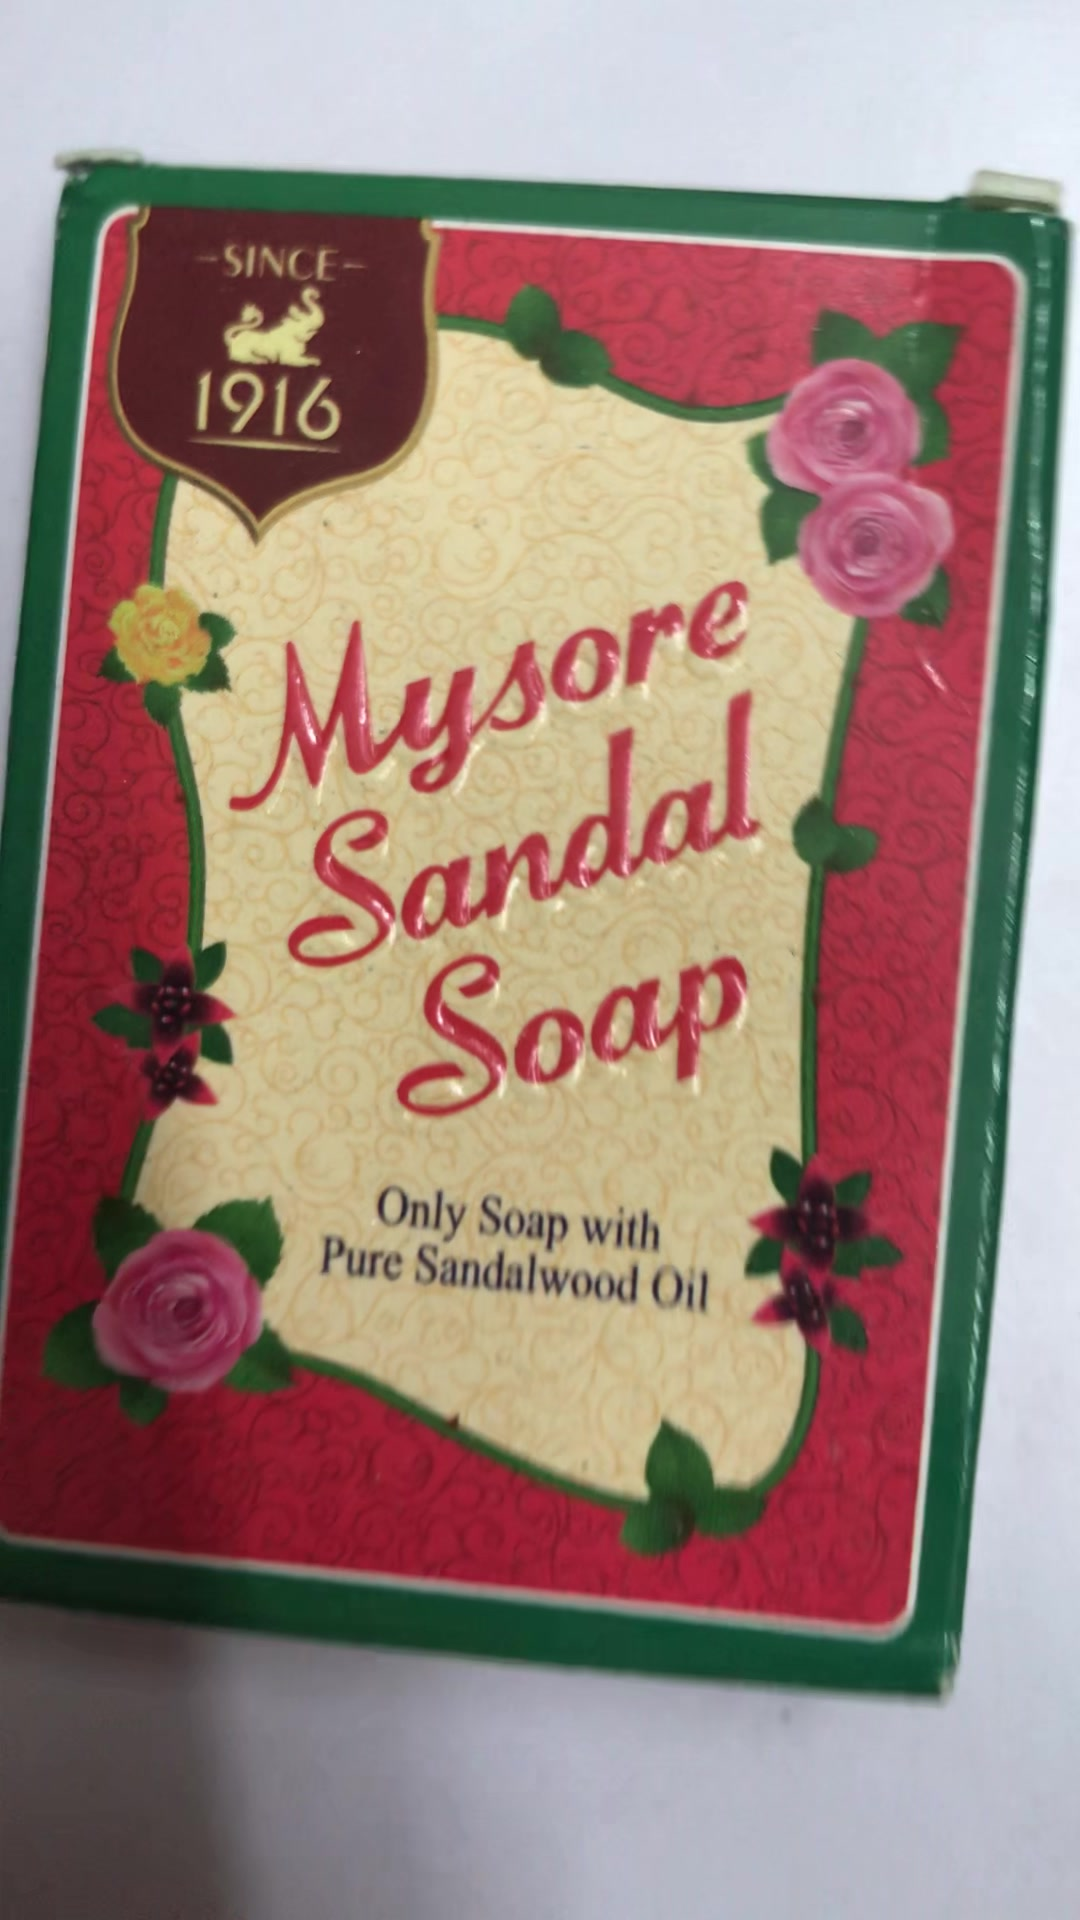mysore sandal soap: (22, 144, 1051, 1712)
